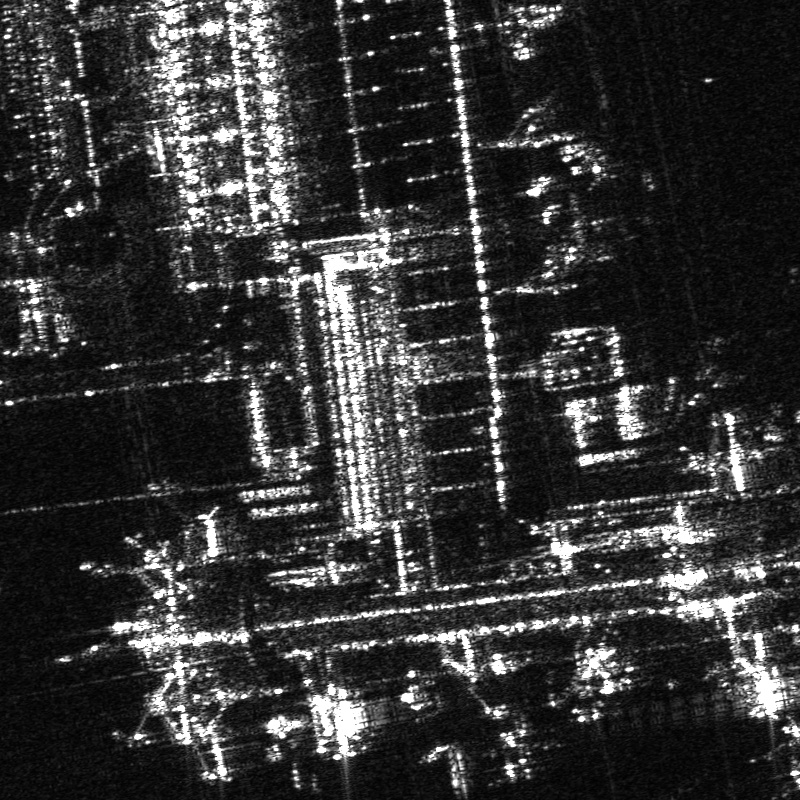Boeing737: (751, 713, 799, 799)
